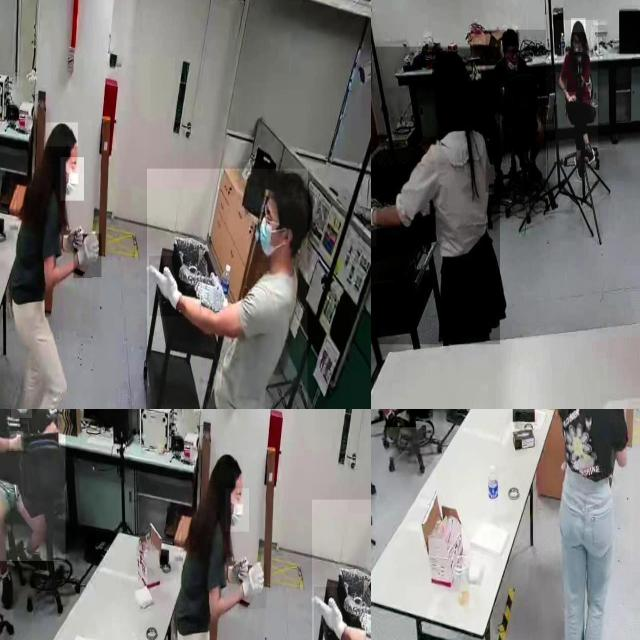face_mask: (252, 211, 282, 263), (60, 157, 84, 201), (225, 488, 249, 532), (11, 409, 32, 418)
hand_glove: (149, 256, 185, 316), (313, 586, 350, 640), (74, 234, 102, 278), (239, 565, 267, 609), (371, 203, 377, 246)
hand_noglove: (10, 431, 24, 452), (566, 92, 576, 102)
head_nohelmet: (432, 48, 472, 86), (268, 168, 313, 200), (46, 122, 78, 148), (211, 454, 243, 478), (501, 27, 519, 43), (571, 18, 586, 33)
person: (147, 168, 308, 409), (371, 46, 500, 345), (4, 120, 93, 409), (541, 409, 633, 640), (169, 451, 258, 640), (0, 409, 66, 562), (486, 30, 546, 192), (556, 20, 598, 182)
shoes: (572, 148, 586, 186), (583, 138, 597, 168)
